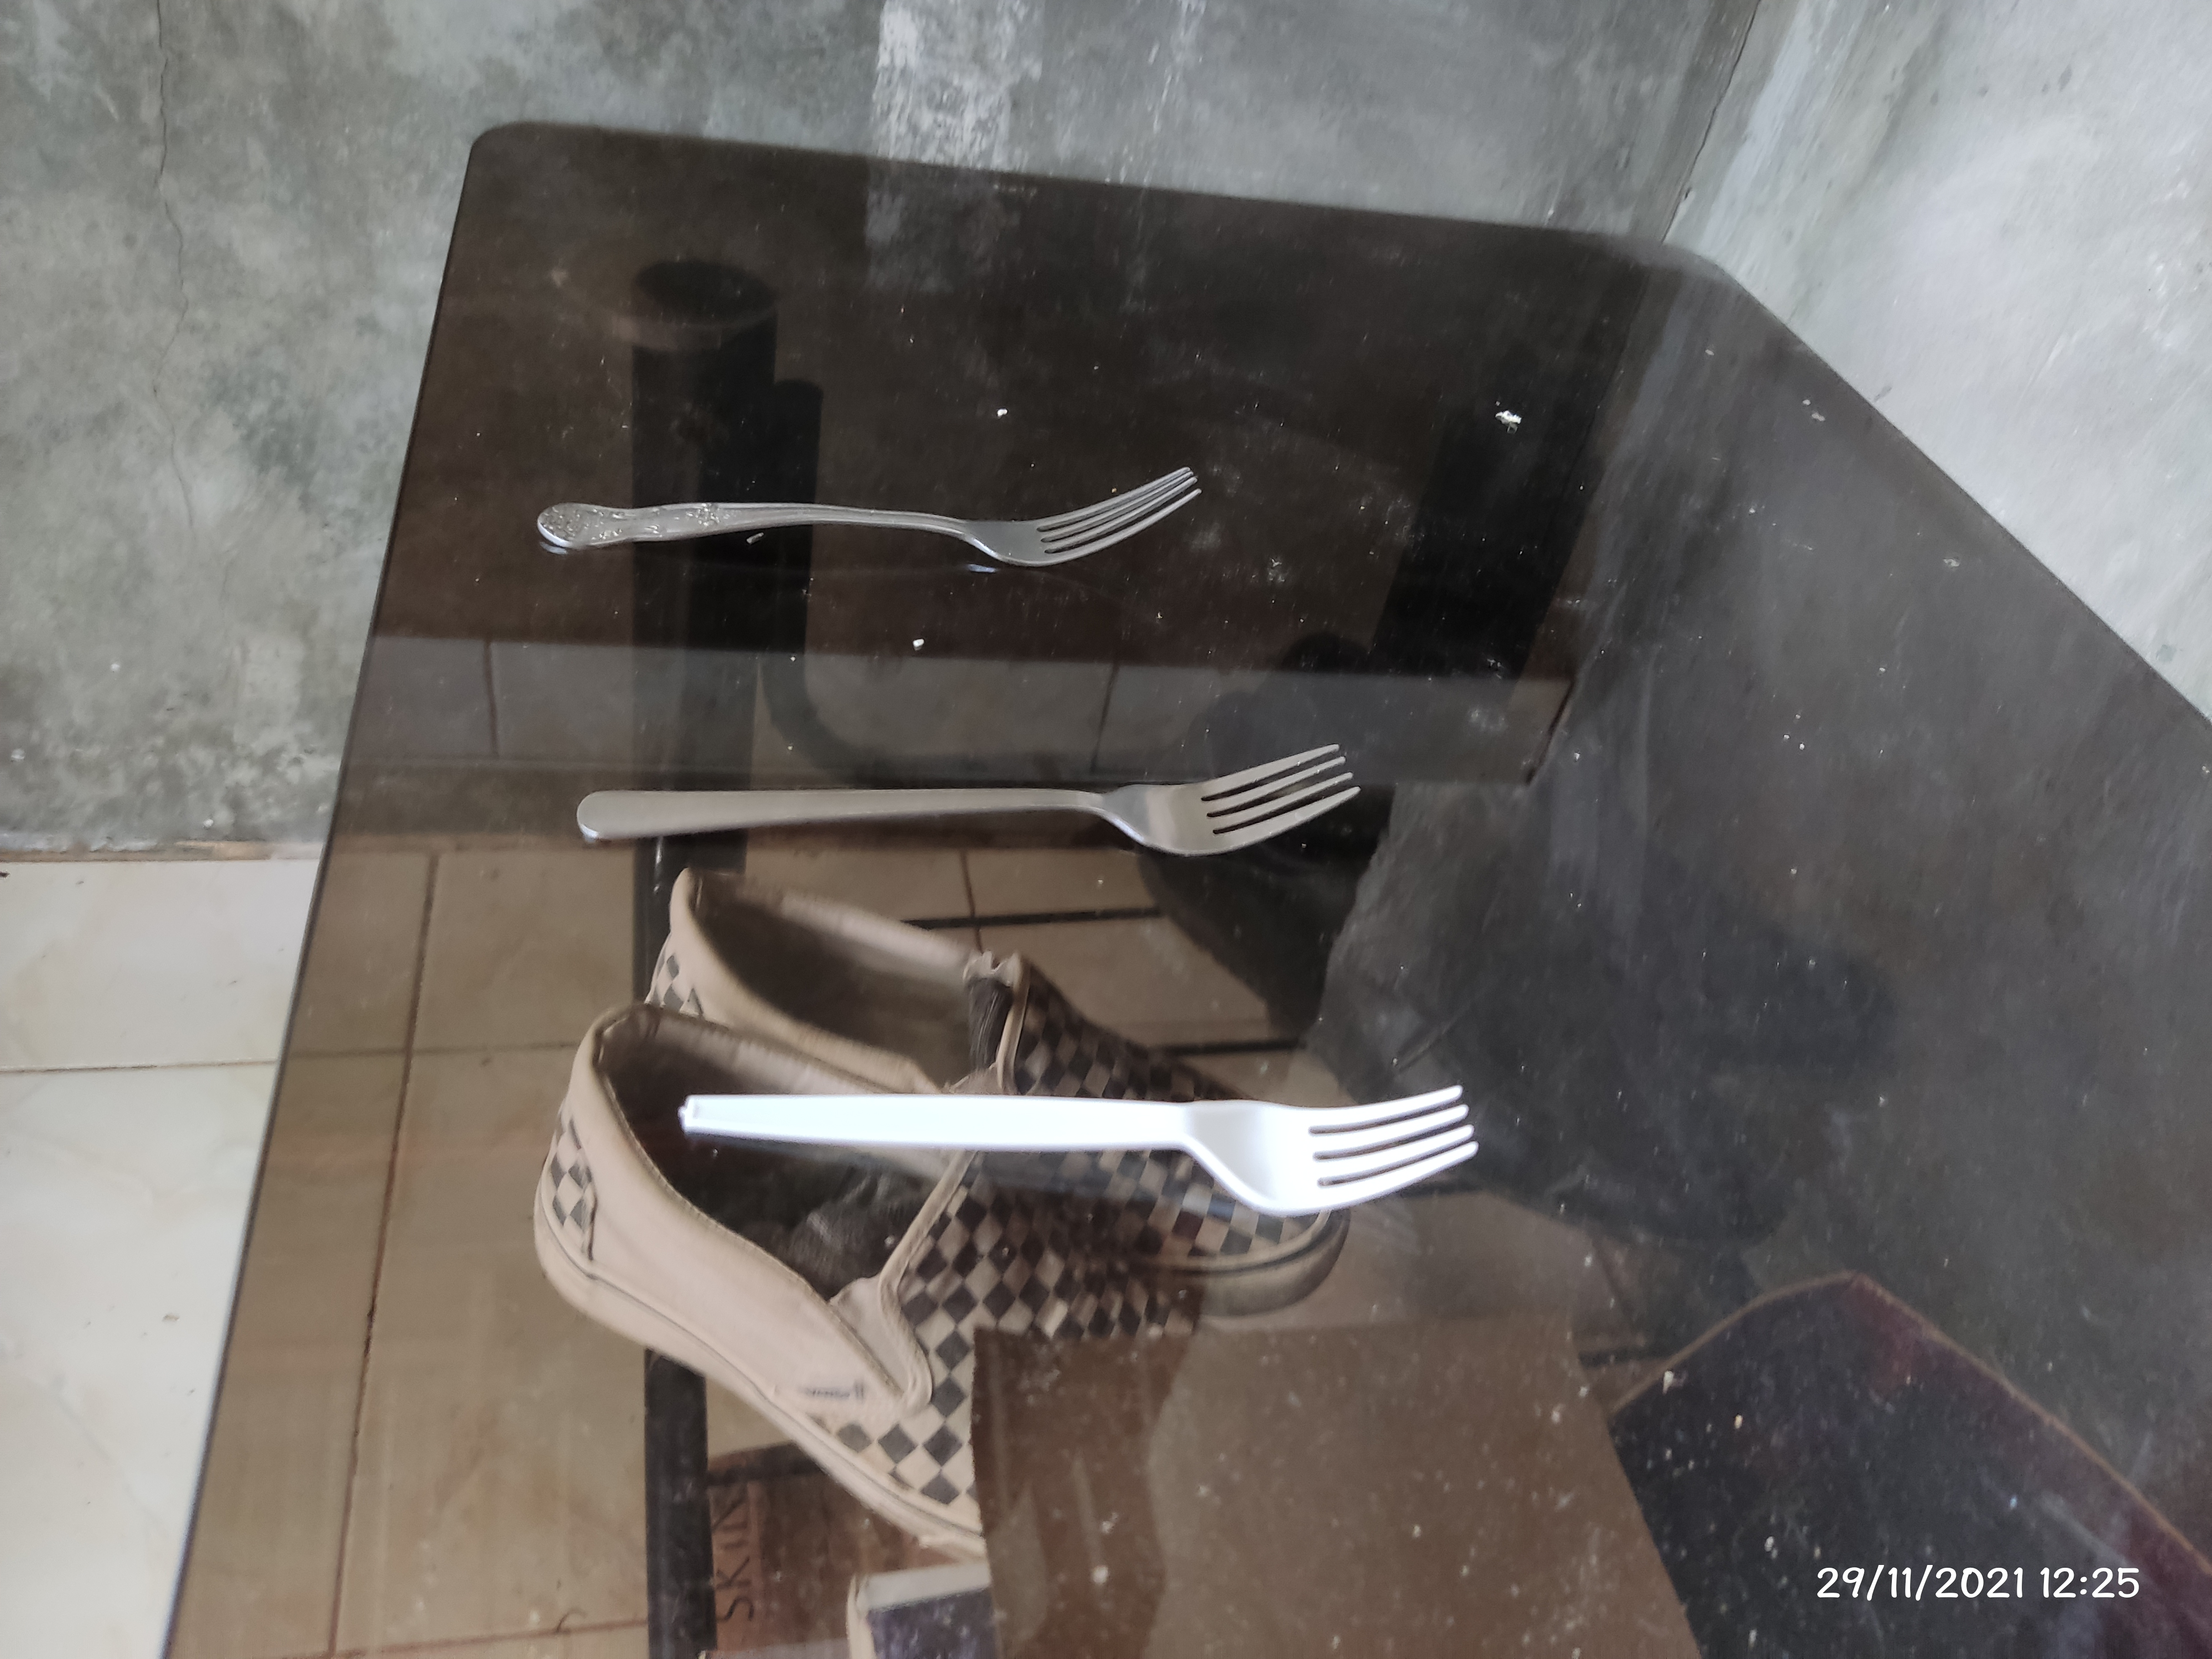fork: (676, 1079, 1479, 1215), (575, 748, 1357, 857), (538, 464, 1205, 566)
